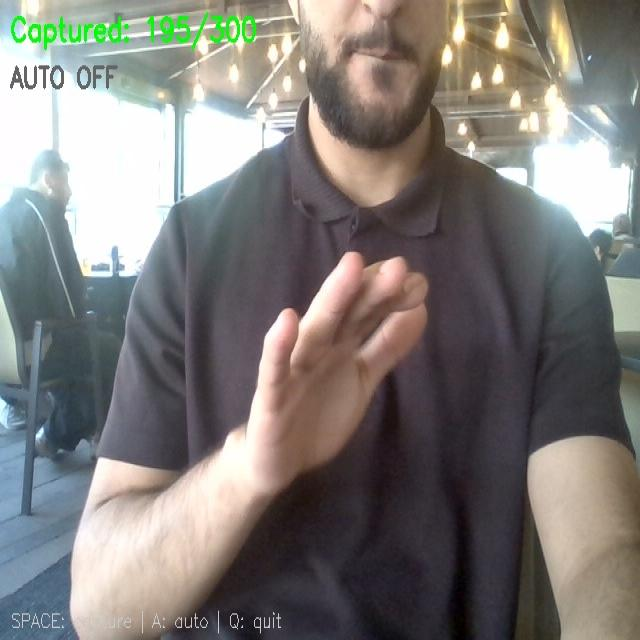Hand: (233, 252, 426, 494)
